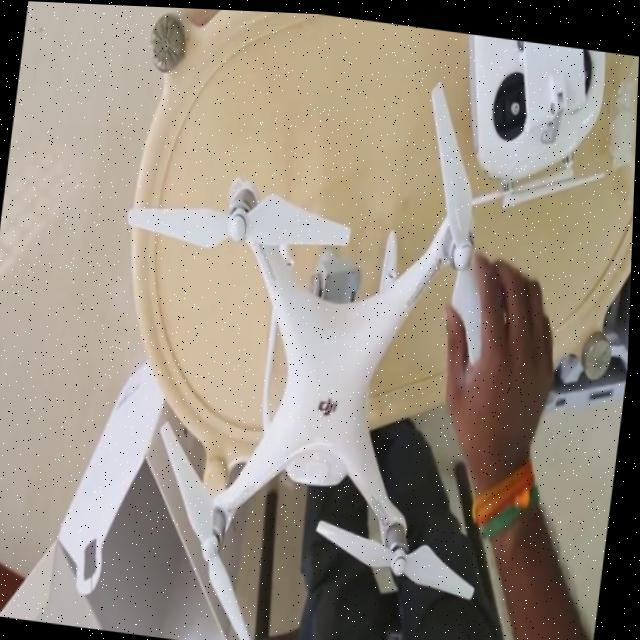drones: (68, 13, 555, 640)
